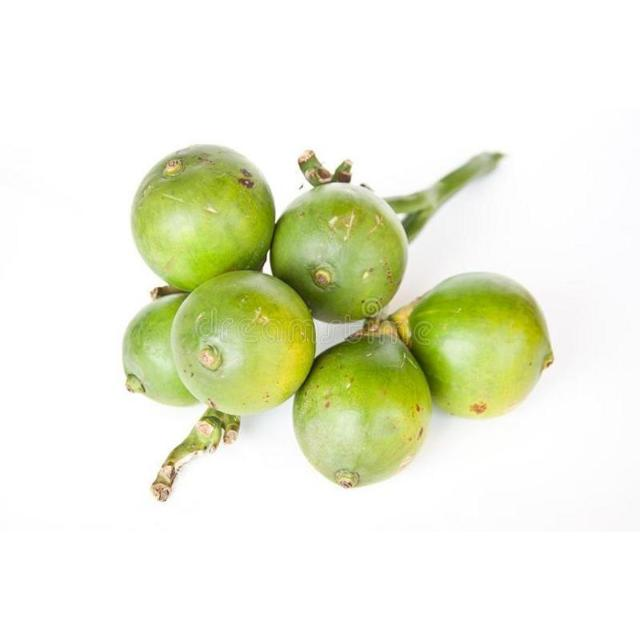good: (268, 161, 430, 326), (395, 273, 555, 422), (165, 271, 318, 419), (291, 334, 434, 491), (129, 145, 278, 295), (122, 293, 202, 409)
